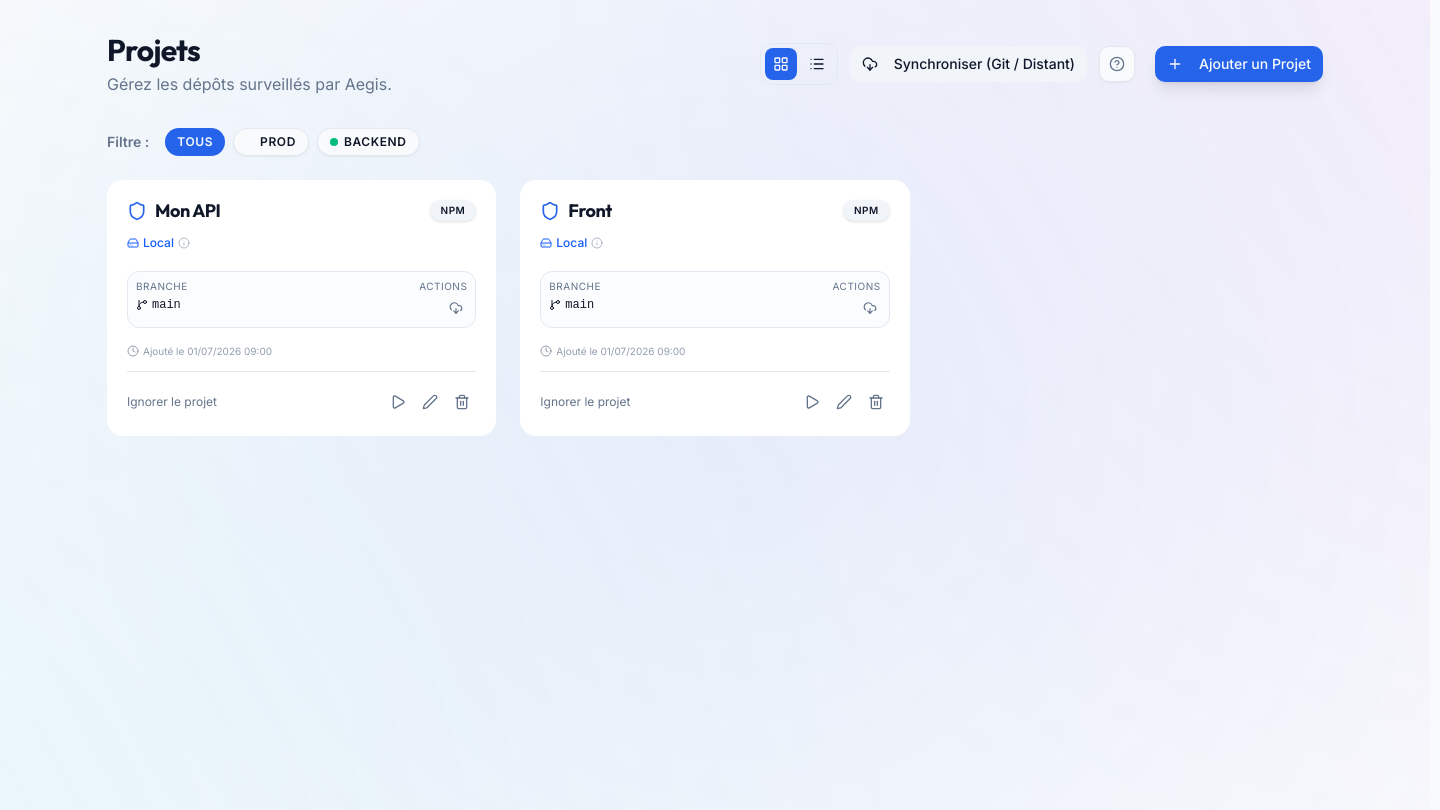
Scenario: Projects › un dépôt injoignable est nommé à l'écran
The image size is (1440, 810).
Expected: the heading "Mon API" is shown, [155,200,220,222]
What coordinates should you click on to do the following:
click the button "Synchroniser (Git / Distant)"
I would click on:
 (968, 64)
Its box is [850,46,1087,82].
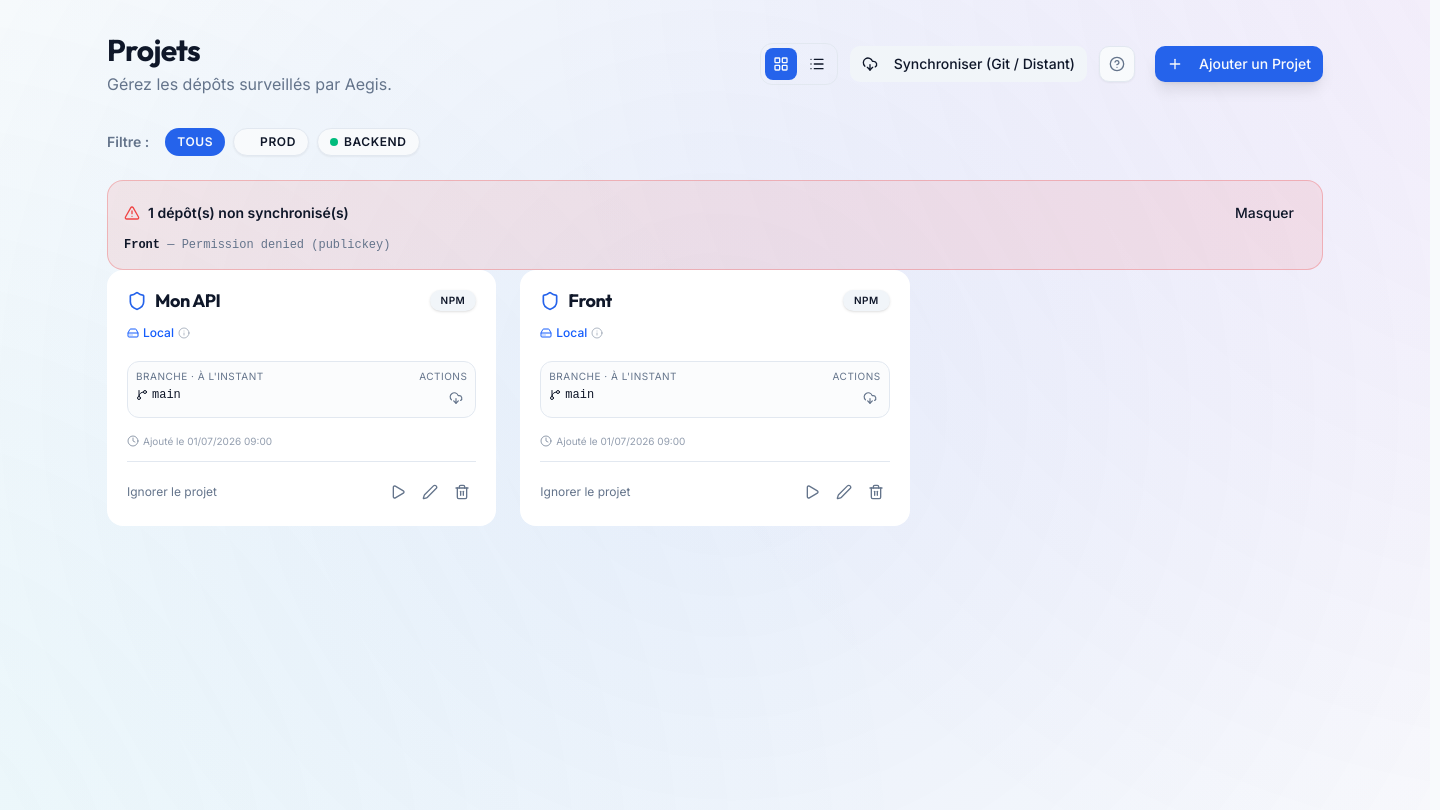
Expected: the text "1 dépôt(s) non synchronisé(s)" is shown, [124,203,349,223]
Expected: the list item "Front — Permission denied (publickey)" is shown, [124,238,390,252]
